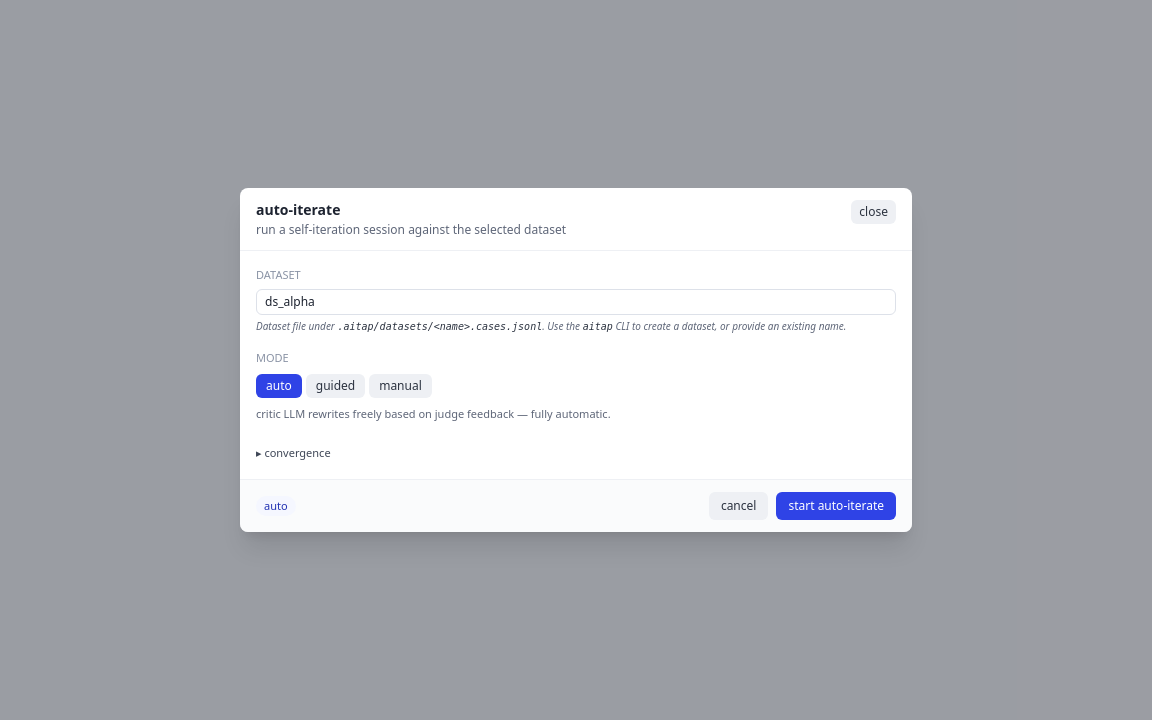
Test: AutoIterateModal › toggles between auto / guided / manual modes and reveals the right input
The image size is (1152, 720).
Expected: the field labelled "instruction" is not shown
Expected: the field labelled "round 2 prompt text" is not shown
Switch to guided — the instruction input appears.
What coordinates should you click on to do the following:
click the button "guided"
I would click on:
 (336, 386)
Its box is top-left (306, 374), bottom-right (365, 398).
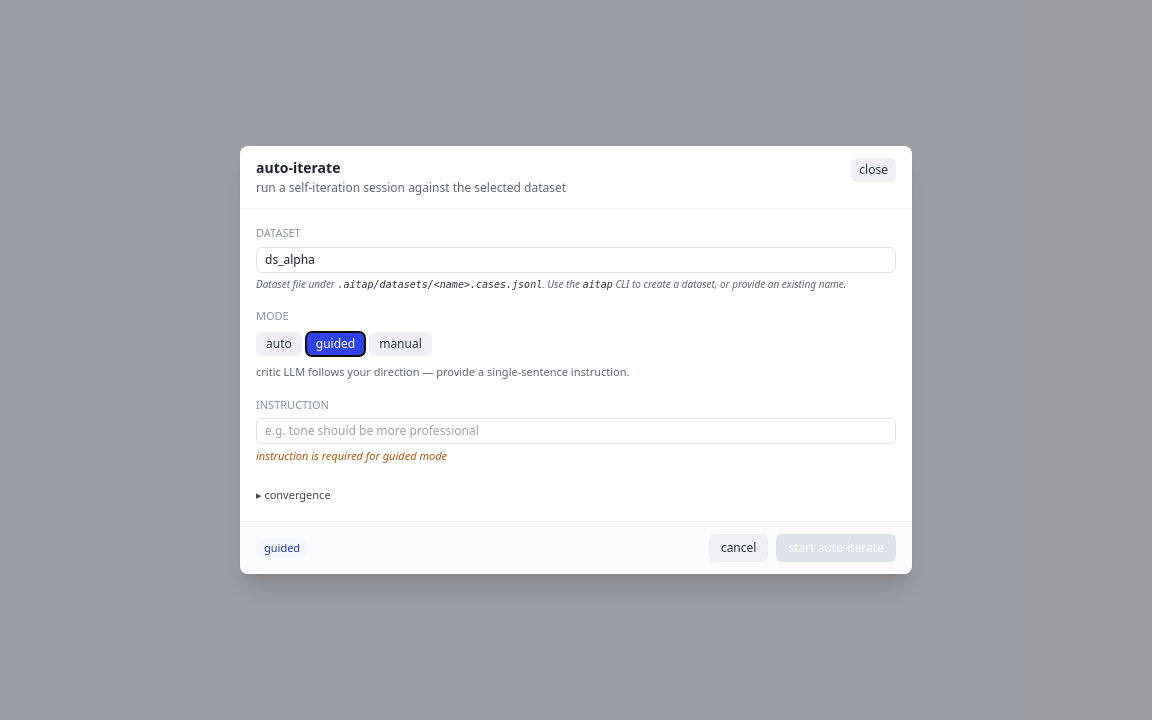
Result: the field labelled "instruction" is shown at top-left (256, 418), bottom-right (896, 444)
What coordinates should you click on to do the following:
click the button "manual"
I would click on:
 (400, 344)
Its box is top-left (369, 332), bottom-right (432, 356).
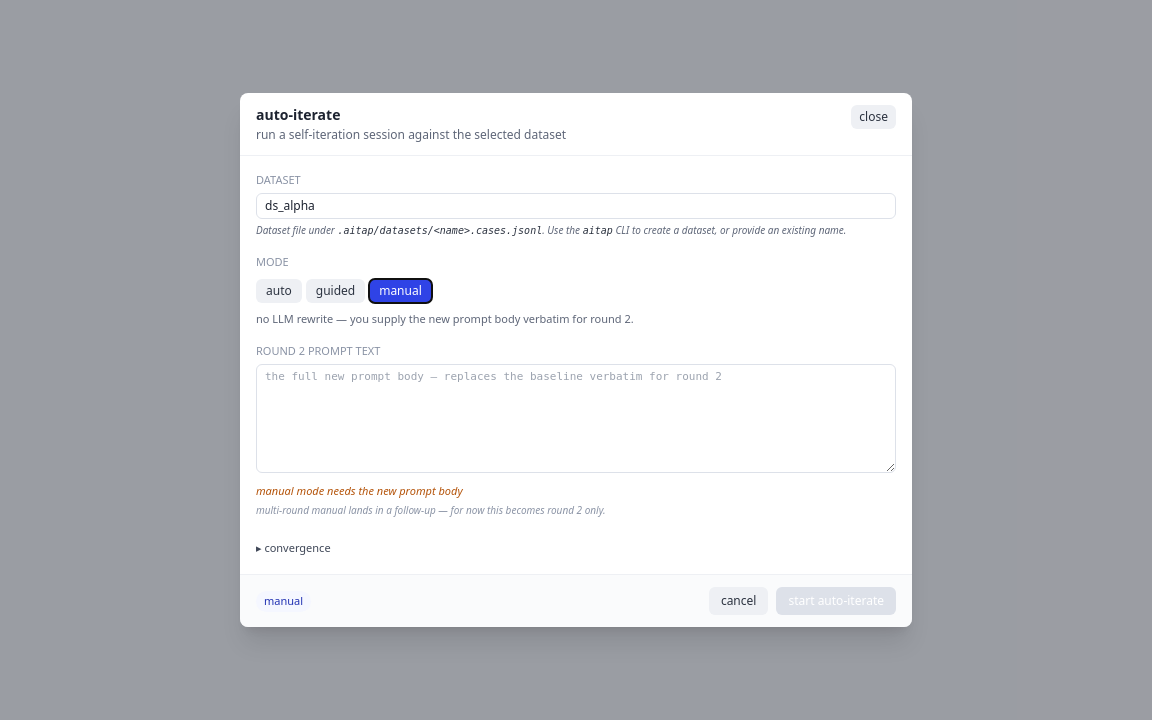
Result: the text labelled "instruction" is gone
Result: the text box labelled "round 2 prompt text" is shown at top-left (256, 364), bottom-right (896, 473)
